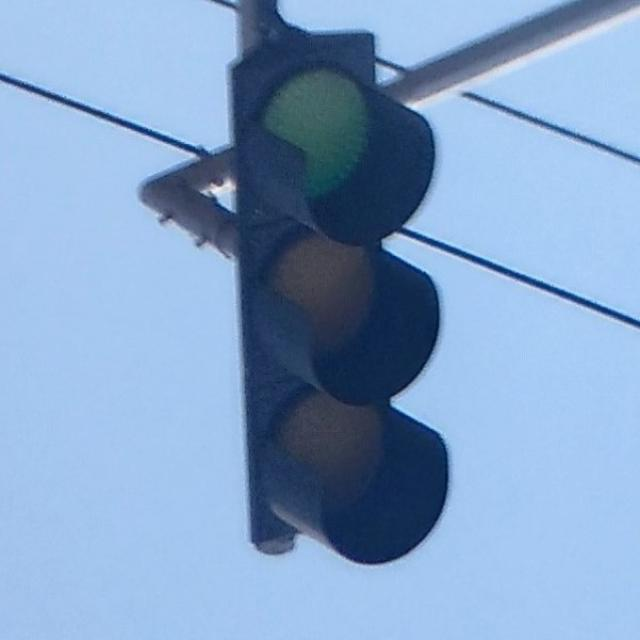green_light: (229, 0, 446, 561)
